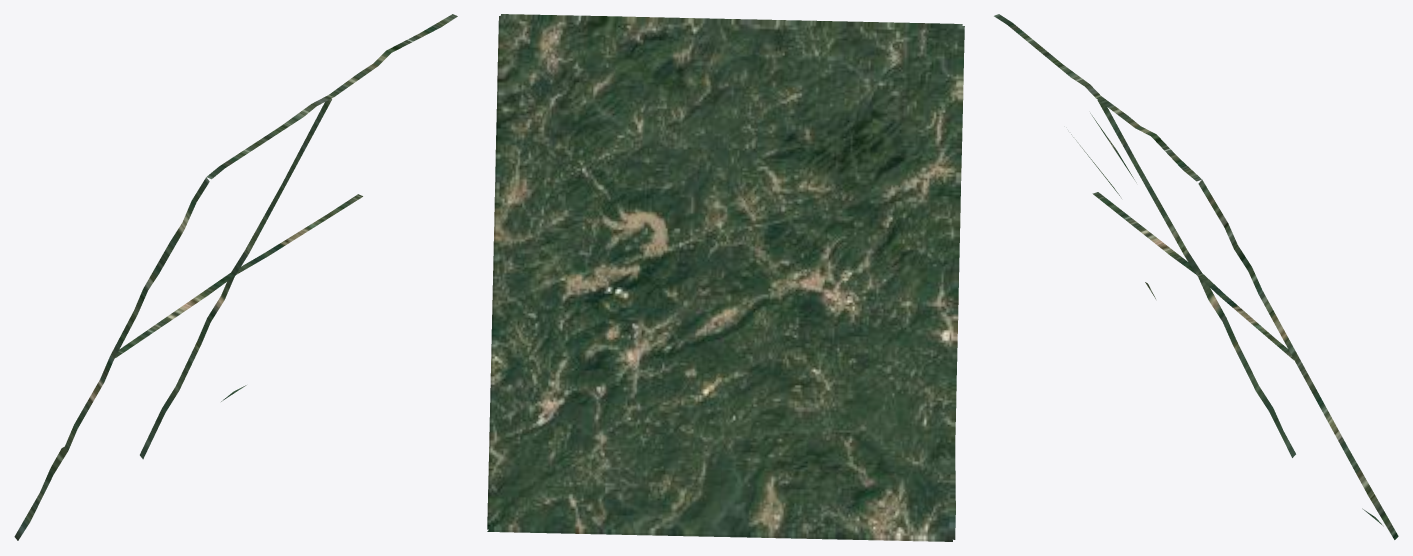
3 views of the same model, side by side, from view 1: azimuth 30°, elevation 25°; view 2: azimuth 150°, elevation 25°; view 3: azimuth 270°, elevation 25° (orthographic). The views are drawn at different scales.
Bounding box in the file's own units: 79416 × 71374 × 64373.
Materials: 1 (1 with a texture image).
